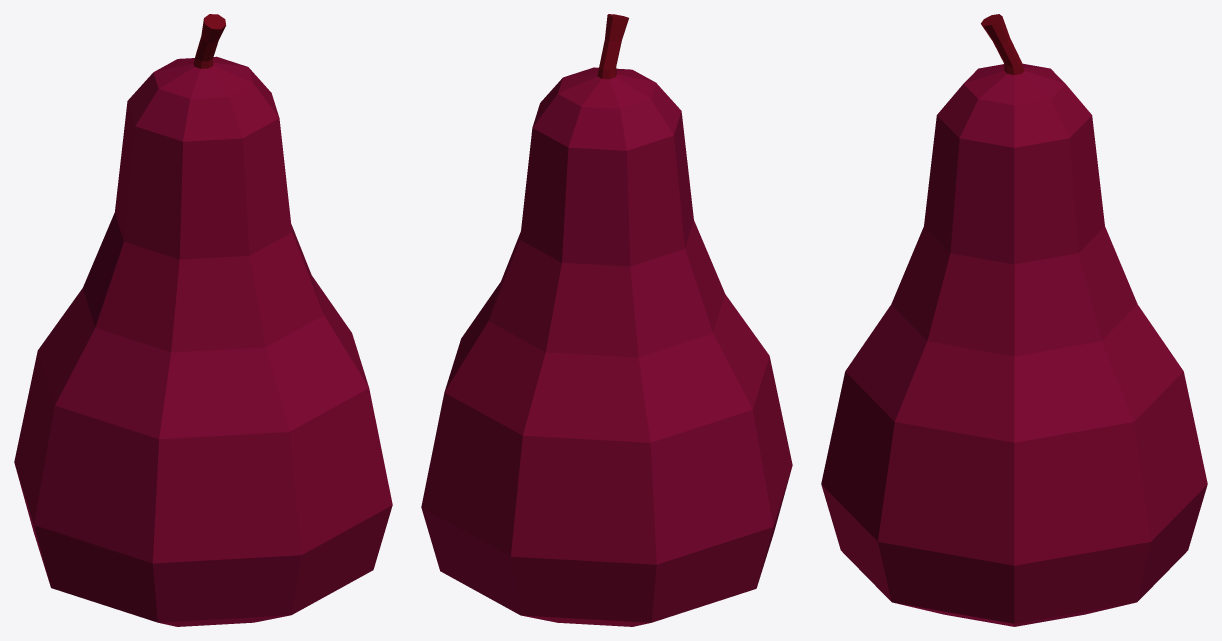
File: Pear_01.fbx
3 views of the same model, side by side, from view 1: azimuth 30°, elevation 25°; view 2: azimuth 150°, elevation 25°; view 3: azimuth 270°, elevation 25° (orthographic).
Visible parts, largest first — view 1: Pear_01; view 2: Pear_01; view 3: Pear_01.
Boxes of the visible parts, box(x1,y1,x2,y2) form: Pear_01: box(14, 14, 392, 626); Pear_01: box(421, 14, 792, 626); Pear_01: box(821, 14, 1207, 626).
Bounding box in the file's own units: 3.83 × 6.29 × 3.83.
